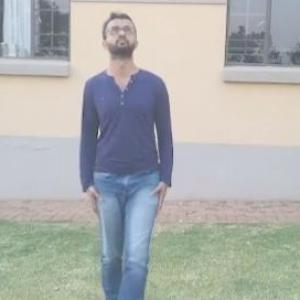follow: (74, 1, 177, 290)
